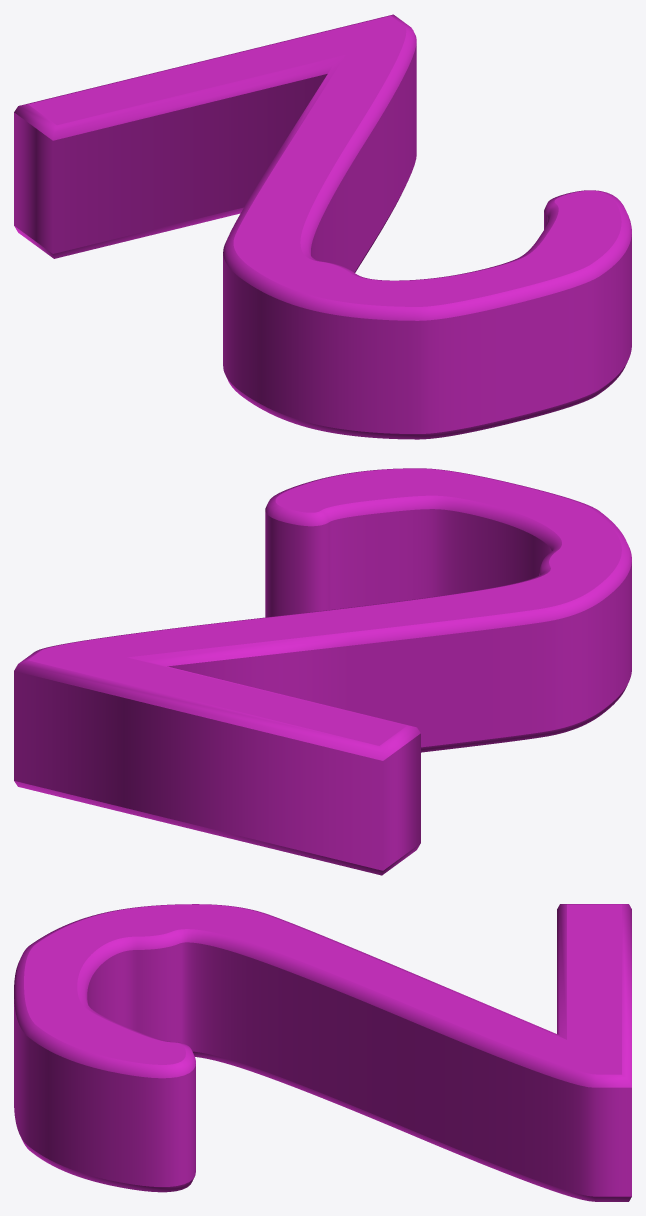
Rendered from Blocky_Number_2.fbx.
3 renders of one model, top to bottom at view 1: azimuth 30°, elevation 25°; view 2: azimuth 150°, elevation 25°; view 3: azimuth 270°, elevation 25°, orthographic. The views are drawn at different scales.
Parts seen in each view (by area): view 1: BlockyNumber_2; view 2: BlockyNumber_2; view 3: BlockyNumber_2.
Part boxes in pixels (x1,y1,x2,y2): BlockyNumber_2: (14,14,631,439); BlockyNumber_2: (14,468,631,875); BlockyNumber_2: (14,904,631,1201).
Size of the model in its own units: 0.422 by 0.14 by 0.6174.
